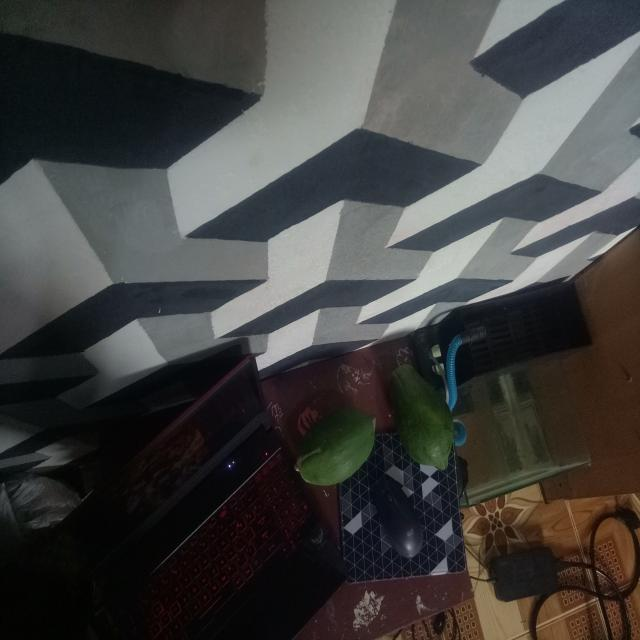Pepaya unrippen: (292, 396, 381, 482), (392, 375, 449, 484)
